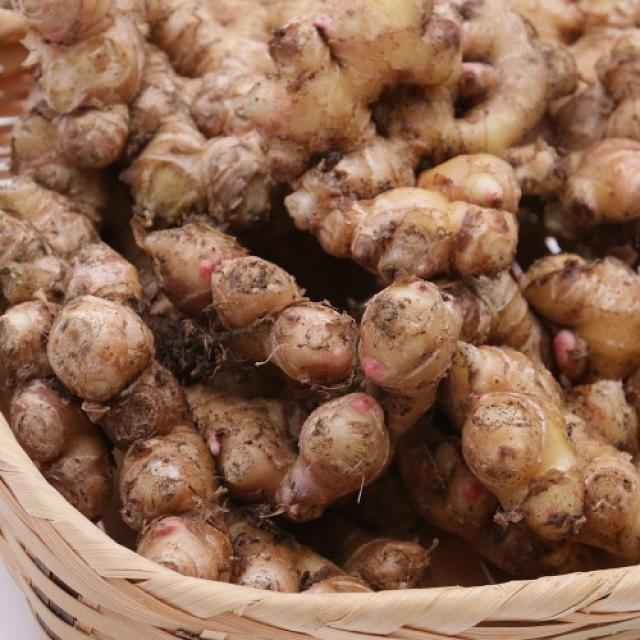ginger: (0, 0, 619, 568)
